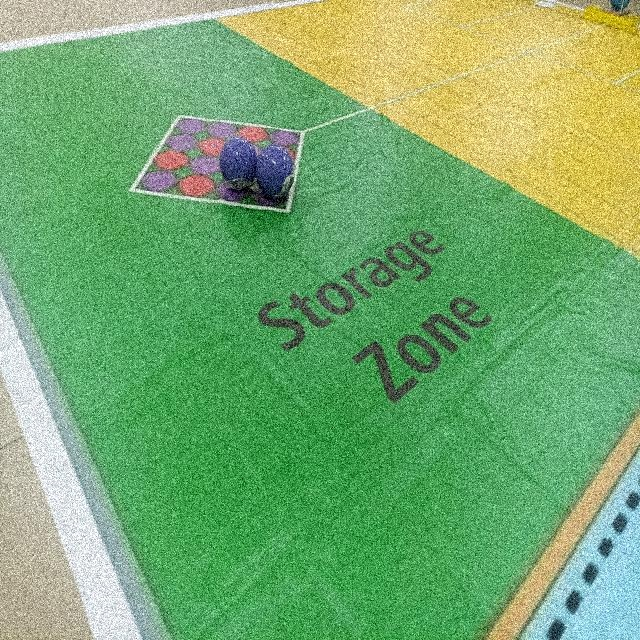purple_ball: (252, 144, 296, 200), (218, 136, 258, 192)
